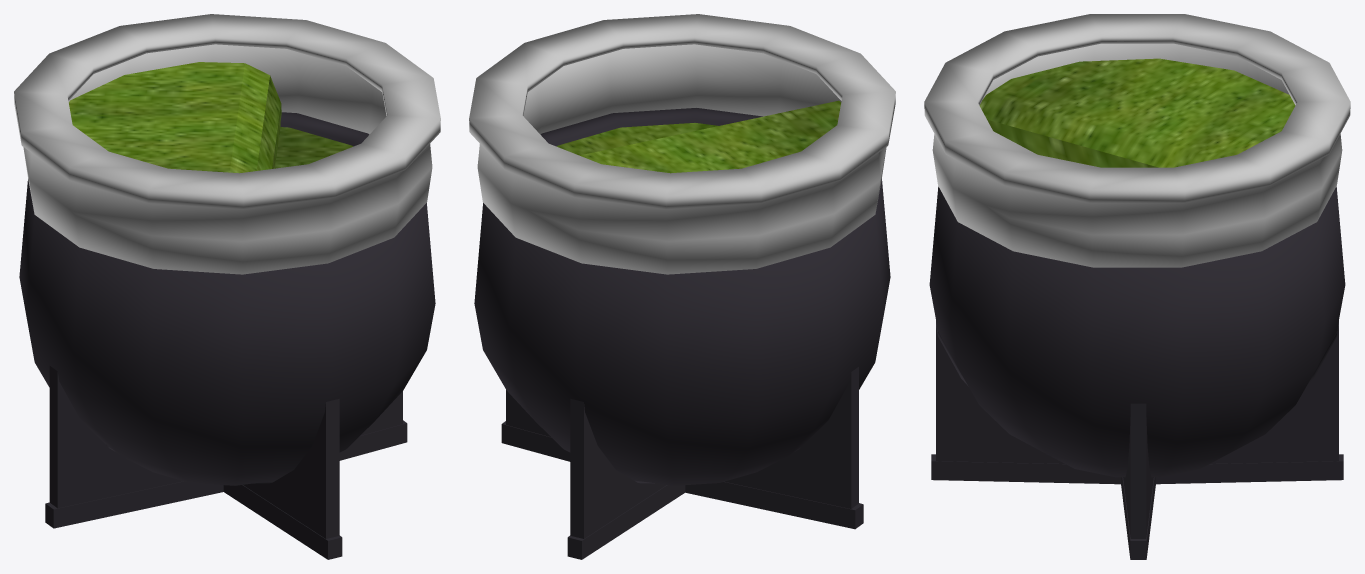
Rendered from mate.fbx.
The picture shows the model from 3 angles, left to right: view 1: azimuth 30°, elevation 25°; view 2: azimuth 150°, elevation 25°; view 3: azimuth 270°, elevation 25°; orthographic projection.
Parts seen in each view (by area): view 1: BameMate, PartedeArriba, yerba, Base; view 2: BameMate, PartedeArriba, Base, yerba; view 3: BameMate, PartedeArriba, yerba, Base.
Boxes of the visible parts, left/top/right/bottom form: BameMate: left=19, top=112, right=435, bottom=485; PartedeArriba: left=14, top=14, right=440, bottom=274; yerba: left=69, top=62, right=352, bottom=173; Base: left=45, top=366, right=407, bottom=559; BameMate: left=474, top=108, right=890, bottom=485; PartedeArriba: left=469, top=14, right=895, bottom=274; Base: left=501, top=367, right=863, bottom=559; yerba: left=557, top=100, right=841, bottom=173; BameMate: left=929, top=186, right=1345, bottom=477; PartedeArriba: left=924, top=14, right=1350, bottom=267; yerba: left=979, top=58, right=1295, bottom=167; Base: left=931, top=321, right=1343, bottom=559.
Size of the model in its own units: 159 by 157 by 163.
